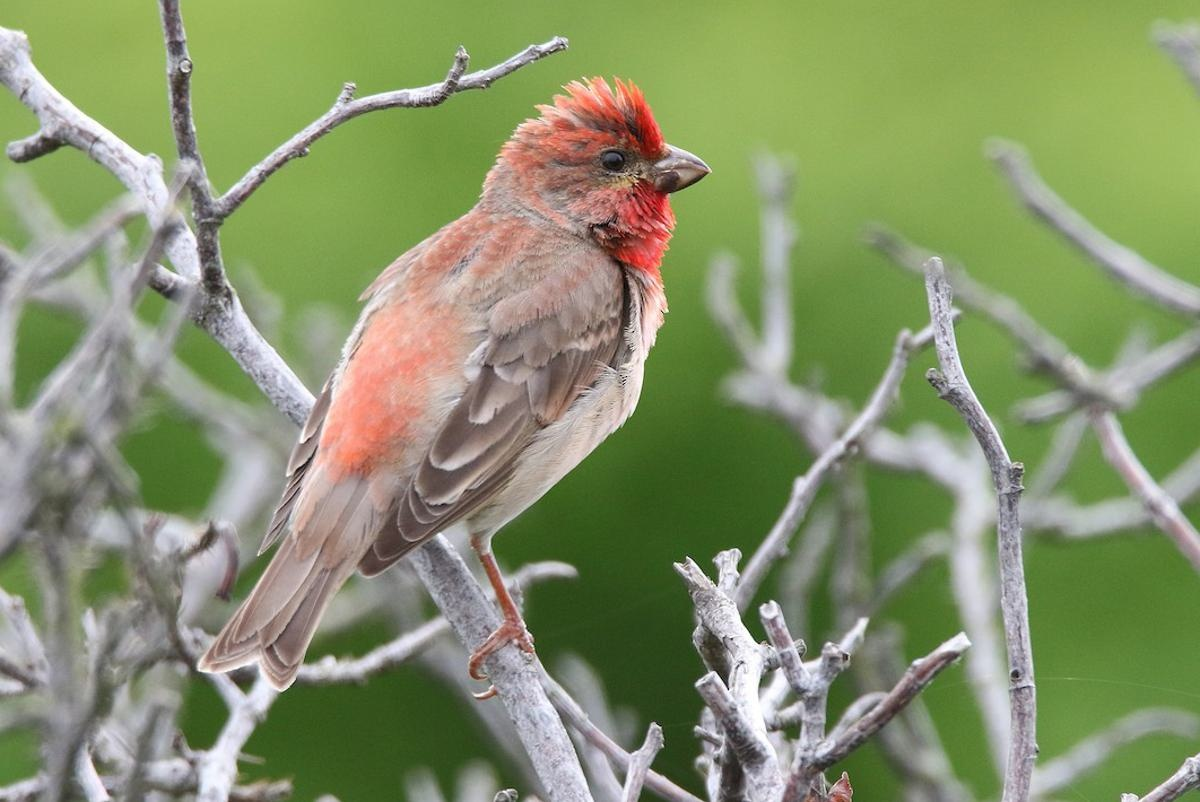rosefinch: (179, 71, 766, 729)
